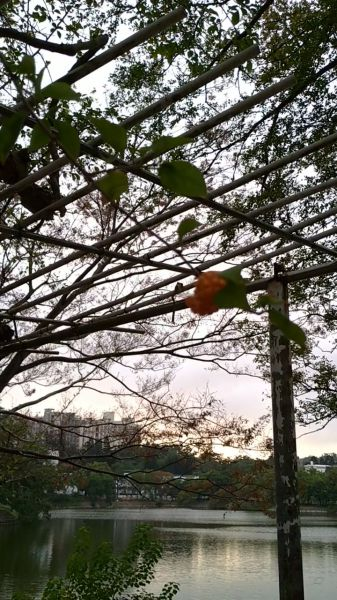eggs: (184, 266, 240, 318)
